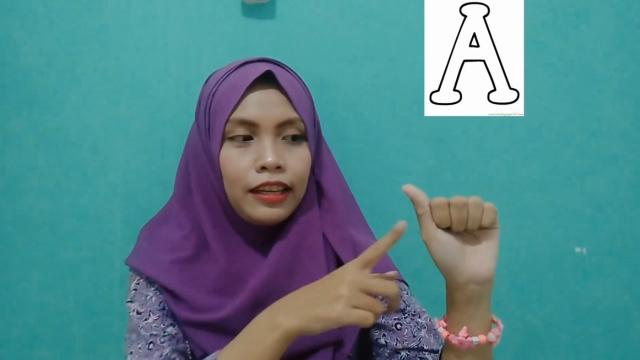A: (403, 182, 501, 290)
